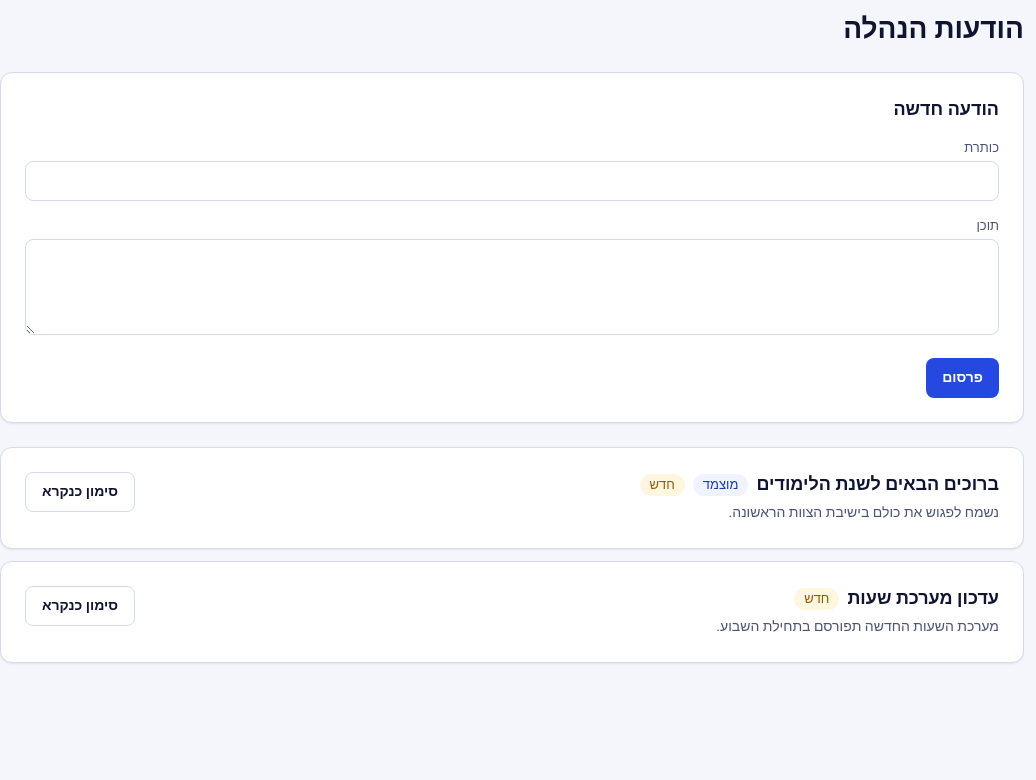
reference announcements screen › shows field errors from the server for an empty form
Click the button "פרסום" at (963, 378), box left=926, top=358, right=999, bottom=398
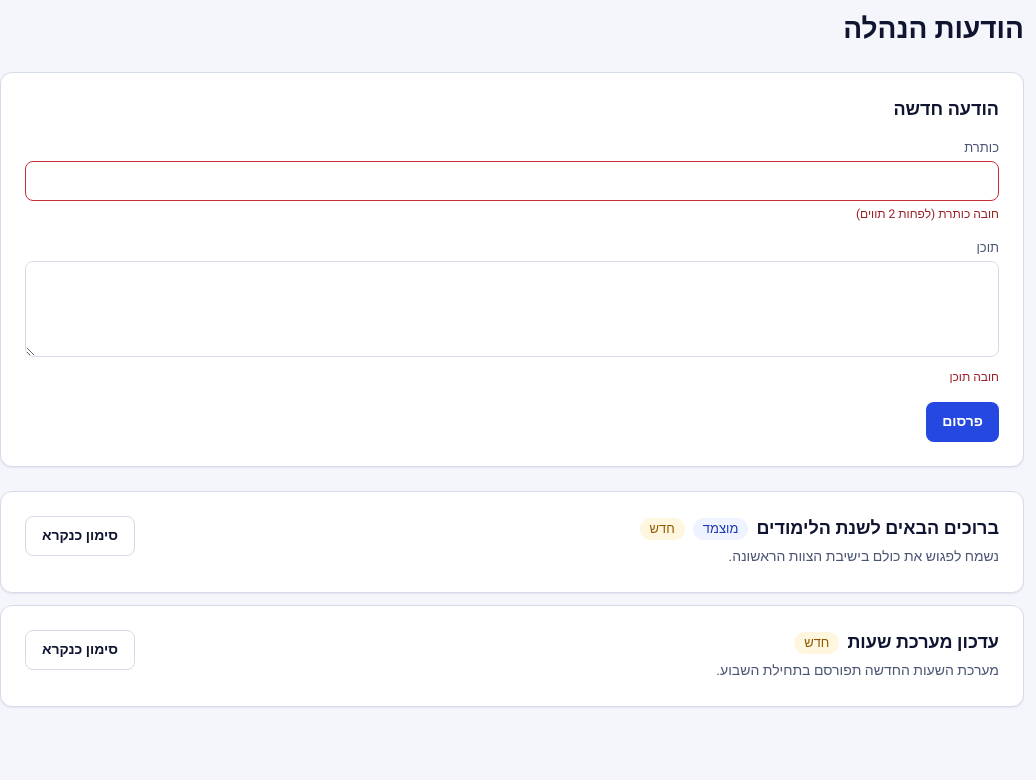
Check: the text "חובה כותרת (לפחות 2 תווים)" is shown, box left=856, top=205, right=999, bottom=223
Check: the text "חובה תוכן" is shown, box left=949, top=368, right=999, bottom=386
